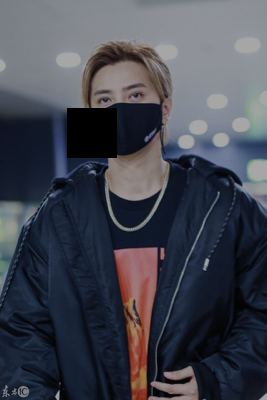with_mask: (91, 80, 163, 158)
